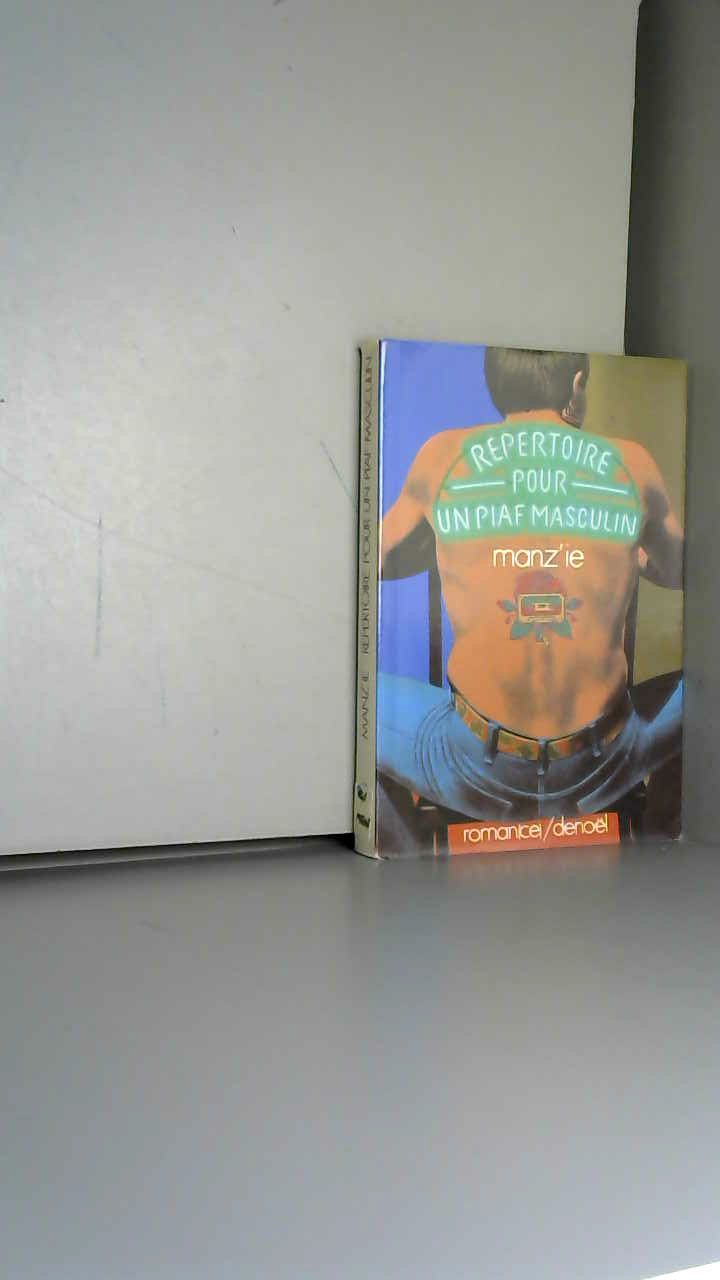book: (320, 300, 718, 885)
